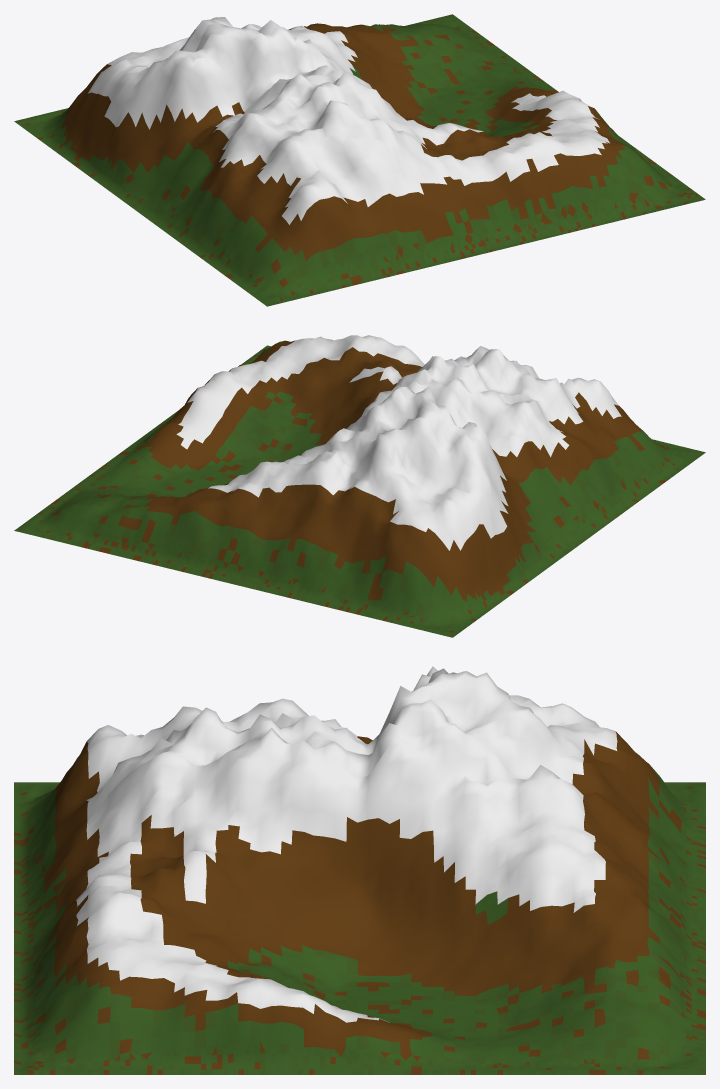
The model's file is S0.mountain.8.glb.
The picture shows the model from 3 angles, top to bottom: view 1: azimuth 30°, elevation 25°; view 2: azimuth 150°, elevation 25°; view 3: azimuth 270°, elevation 25°; orthographic projection. The views are drawn at different scales.
Parts seen in each view (by area): view 1: Landscape.00c; view 2: Landscape.00c; view 3: Landscape.00c.
Boxes of the visible parts, box(x1,y1,x2,y2) form: Landscape.00c: box(14, 14, 705, 306); Landscape.00c: box(14, 335, 705, 637); Landscape.00c: box(14, 666, 705, 1074).
Size of the model in its own units: 303 by 90.73 by 303.
